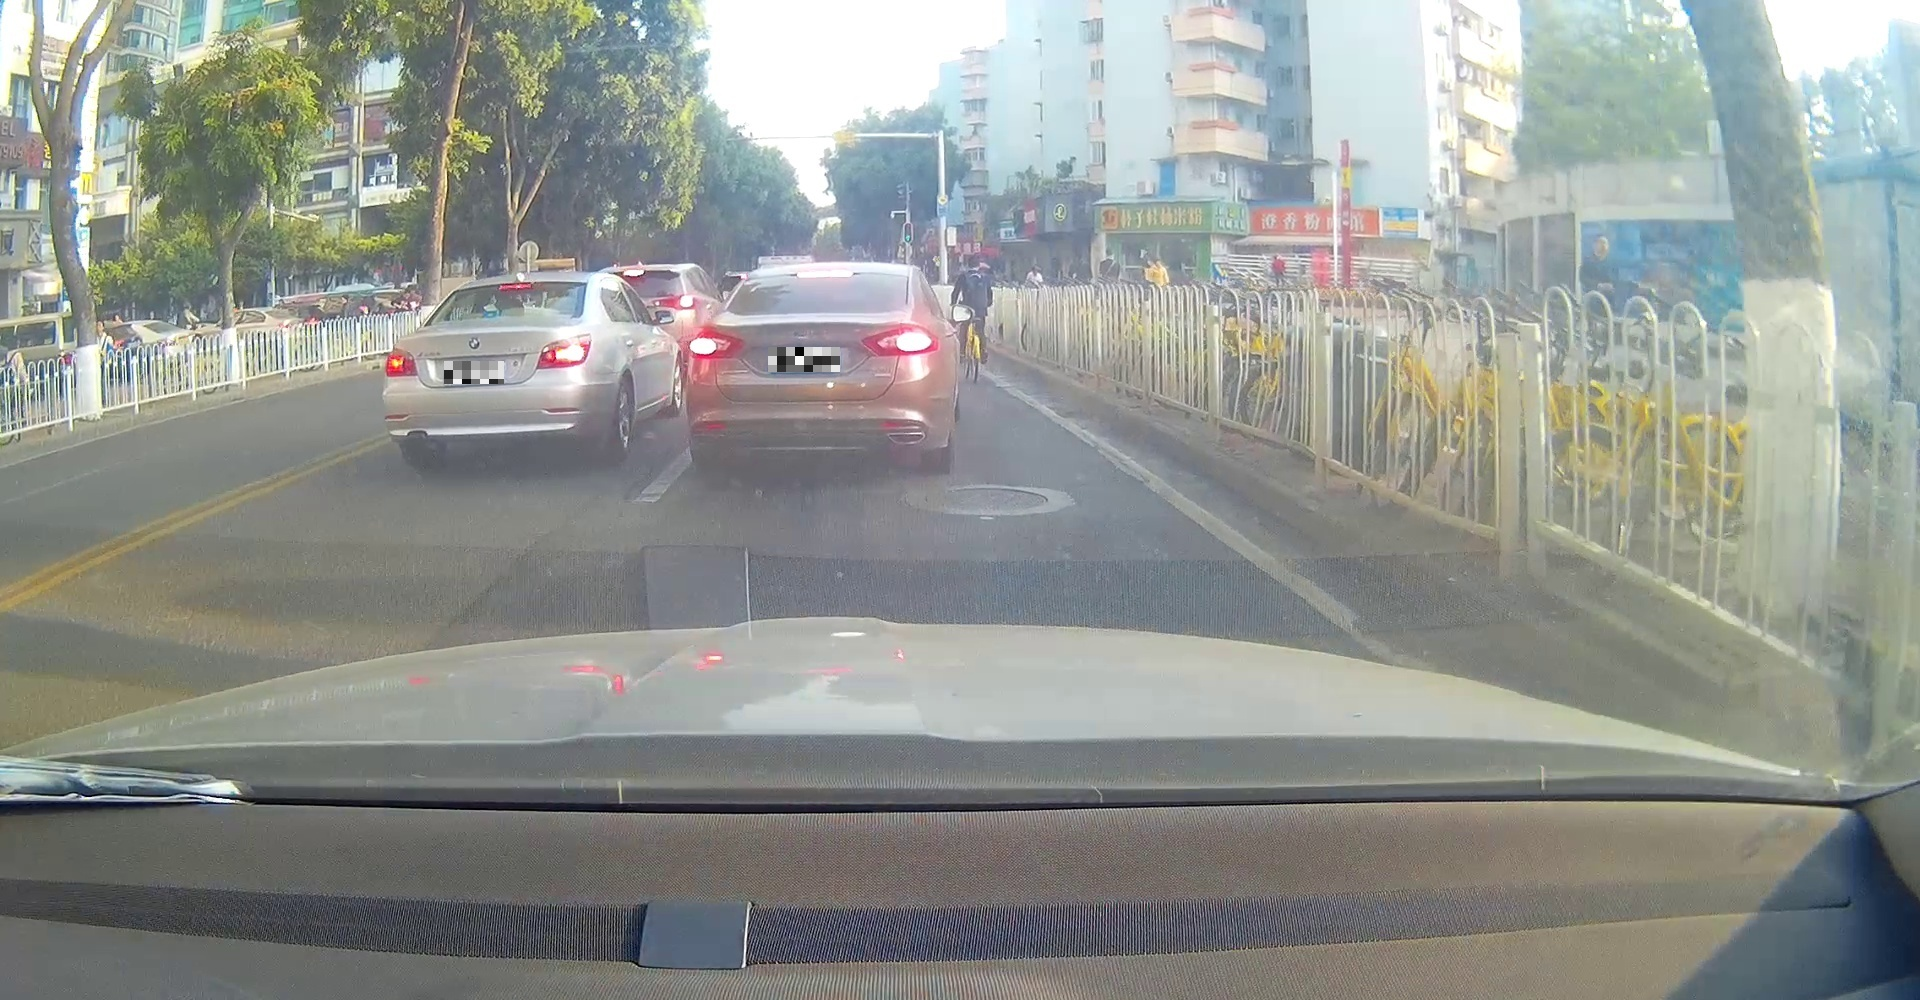L_light: (687, 329, 744, 358), (383, 346, 418, 377)
R_light: (861, 324, 938, 357), (536, 332, 592, 369)
T_light: (795, 270, 855, 278), (498, 282, 532, 289)
day-brake: (683, 261, 945, 473), (381, 272, 597, 461)
plate_1: (444, 360, 504, 385)
plate_2: (768, 346, 841, 372)
